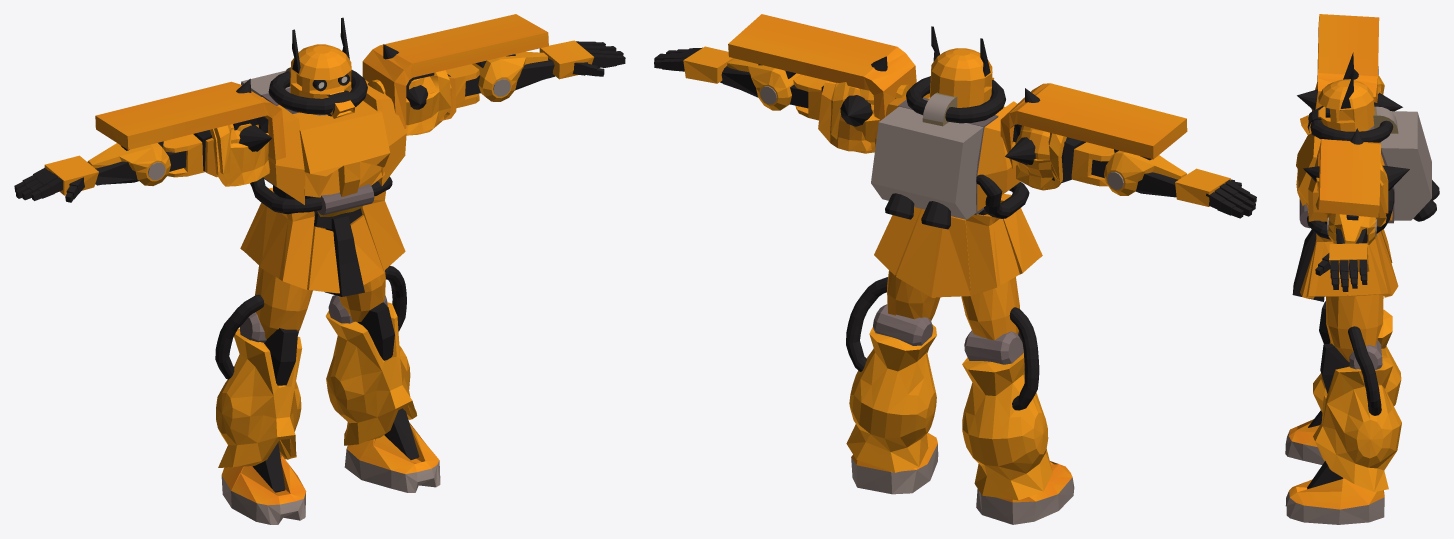
The model's file is robotrainrobat.fbx.
3 renders of one model, left to right at view 1: azimuth 30°, elevation 25°; view 2: azimuth 150°, elevation 25°; view 3: azimuth 270°, elevation 25°, orthographic. The views are drawn at different scales.
Visible parts, largest first — view 1: mesh_1711975188.001, mesh_1711975188, mesh_1465813181.001, mesh_1465813181, mesh_1776263116, mesh_1457085191, mesh_1279638668, mesh_1094983144, mesh_1576660463, mesh_1795490351, mesh_240515304, Cylinder.002 (+23 smaller); view 2: mesh_1711975188, mesh_1711975188.001, Cube.001, mesh_1465813181.001, mesh_1465813181, mesh_286197549, Cylinder.002, mesh_1795490351, mesh_1094983144, mesh_240515304, mesh_568130306, mesh_1457085191 (+22 smaller); view 3: mesh_1711975188, mesh_1465813181.001, mesh_1465813181, Cube.001, mesh_1457085191, mesh_559372490, mesh_1795490351, mesh_70845517, Cylinder.002, mesh_1711975188.001, Cylinder.003, mesh_1099418297 (+23 smaller).
Part boxes in pixels (<box>): mesh_1711975188.001: <box>216,328,302,467</box>; mesh_1711975188: <box>325,302,417,445</box>; mesh_1465813181.001: <box>362,14,548,128</box>; mesh_1465813181: <box>95,81,285,160</box>; mesh_1776263116: <box>293,101,389,197</box>; mesh_1457085191: <box>344,422,440,492</box>; mesh_1279638668: <box>262,80,406,204</box>; mesh_1094983144: <box>221,455,306,524</box>; mesh_1576660463: <box>259,211,314,289</box>; mesh_1795490351: <box>290,44,355,118</box>; mesh_240515304: <box>255,265,312,339</box>; Cylinder.002: <box>215,266,406,379</box>; mesh_1711975188: <box>846,324,936,472</box>; mesh_1711975188.001: <box>962,351,1052,500</box>; Cube.001: <box>871,106,983,219</box>; mesh_1465813181.001: <box>728,14,916,135</box>; mesh_1465813181: <box>1000,83,1187,168</box>; mesh_286197549: <box>965,214,1019,295</box>; Cylinder.002: <box>846,277,1039,410</box>; mesh_1795490351: <box>930,48,994,107</box>; mesh_1094983144: <box>976,461,1074,524</box>; mesh_240515304: <box>961,277,1019,340</box>; mesh_568130306: <box>931,216,970,297</box>; mesh_1457085191: <box>851,433,938,494</box>; mesh_1711975188: <box>1313,355,1401,491</box>; mesh_1465813181.001: <box>1317,139,1380,217</box>; mesh_1465813181: <box>1315,14,1379,109</box>; Cube.001: <box>1381,111,1431,220</box>; mesh_1457085191: <box>1285,478,1384,524</box>; mesh_559372490: <box>1326,292,1383,362</box>; mesh_1795490351: <box>1300,79,1374,134</box>; mesh_70845517: <box>1348,235,1391,296</box>; Cylinder.002: <box>1348,326,1381,415</box>; mesh_1711975188.001: <box>1313,309,1401,412</box>; Cylinder.003: <box>1307,102,1393,142</box>; mesh_1099418297: <box>1306,234,1347,298</box>.
Bounding box in the file's own units: 1247 × 917 × 307.
